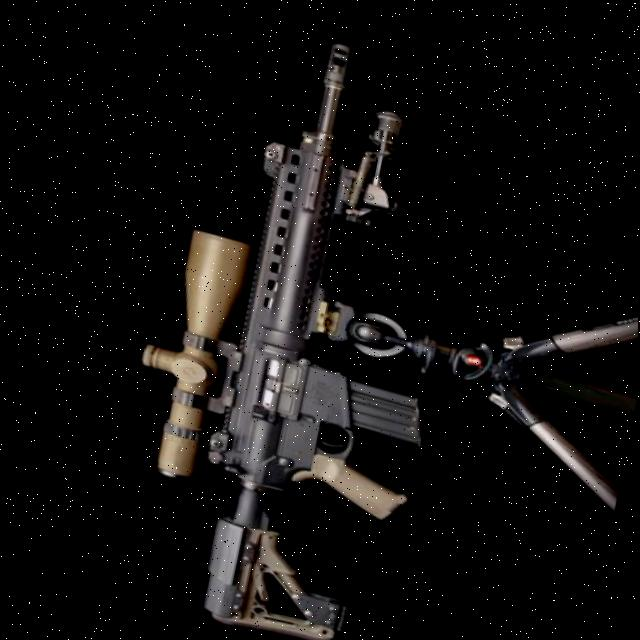firearm: (91, 6, 496, 640)
